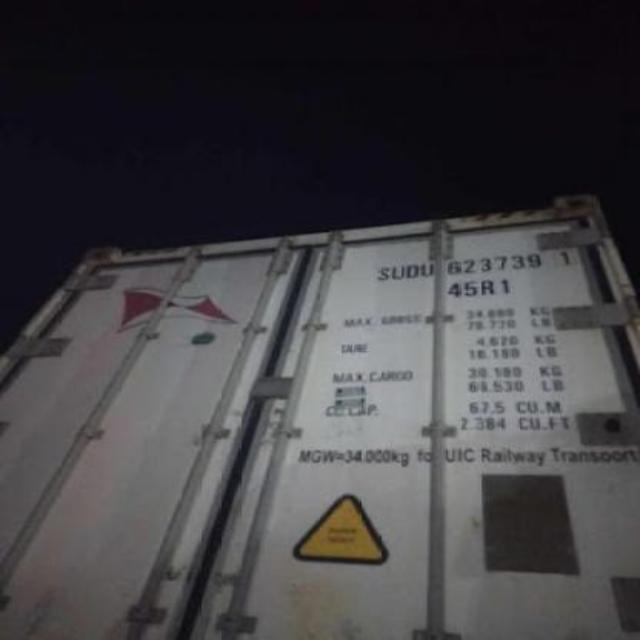1: (560, 250, 570, 266)
2: (462, 259, 478, 277)
3: (510, 252, 526, 270), (478, 259, 494, 275)
6: (444, 259, 464, 279)
7: (494, 255, 510, 271)
9: (526, 252, 542, 270)
D: (406, 264, 419, 280)
S: (378, 266, 390, 282)
U: (418, 262, 436, 278), (392, 268, 406, 280)
